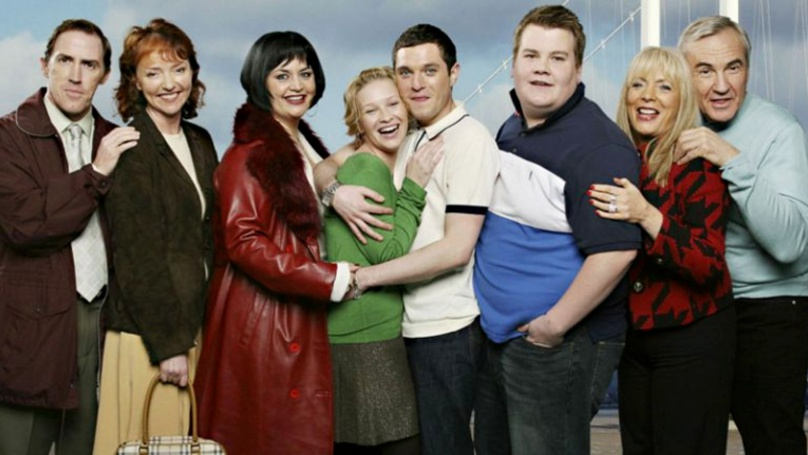bad: (619, 66, 681, 129), (384, 53, 446, 115), (688, 53, 750, 115), (515, 39, 577, 101), (45, 46, 107, 108), (135, 53, 197, 115), (360, 90, 412, 141), (268, 61, 319, 113)
